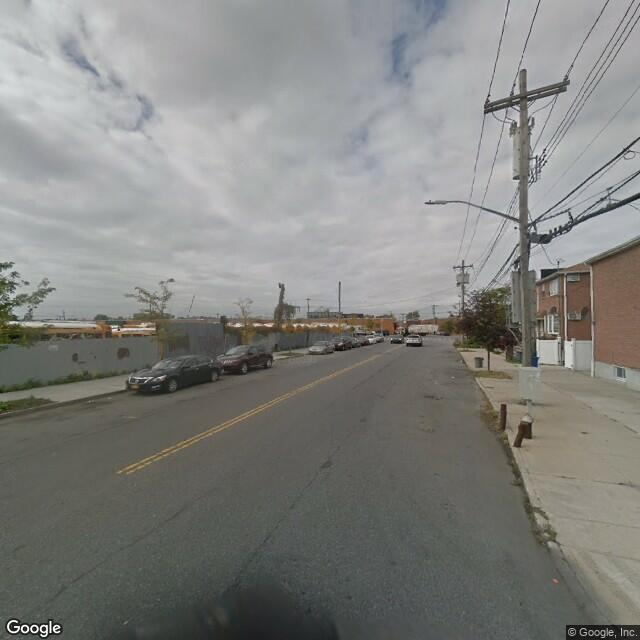litter: (88, 398, 96, 400), (452, 373, 456, 375), (107, 396, 111, 398)
